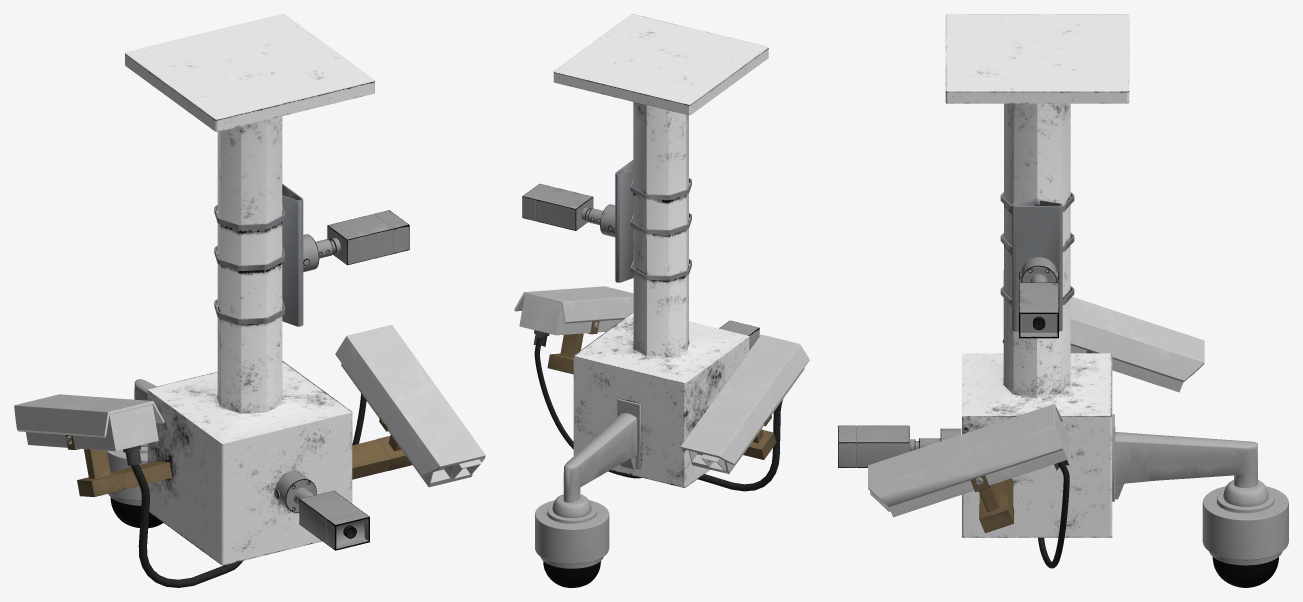
Rendered from cctv_camera.glb.
3 renders of one model, left to right at view 1: azimuth 30°, elevation 25°; view 2: azimuth 150°, elevation 25°; view 3: azimuth 270°, elevation 25°, orthographic. The views are drawn at different scales.
Visible parts, largest first — view 1: Object_6, Object_9, Object_36, Object_42, Object_15, Object_30, Object_48, Object_51; view 2: Object_6, Object_9, Object_48, Object_45, Object_36, Object_42, Object_15, Object_30, Object_51, Object_33; view 3: Object_6, Object_9, Object_45, Object_48, Object_36, Object_42, Object_15, Object_51, Object_33.
Part boxes in pixels (<box>): Object_6: <box>125,14,374,565</box>; Object_9: <box>14,325,485,487</box>; Object_36: <box>274,210,409,550</box>; Object_42: <box>214,183,303,326</box>; Object_15: <box>65,417,412,496</box>; Object_30: <box>131,464,242,587</box>; Object_48: <box>107,443,147,505</box>; Object_51: <box>110,497,163,528</box>; Object_6: <box>553,14,768,487</box>; Object_9: <box>514,286,809,473</box>; Object_48: <box>535,494,609,568</box>; Object_45: <box>563,399,640,502</box>; Object_36: <box>522,184,759,349</box>; Object_42: <box>615,160,691,282</box>; Object_15: <box>547,321,776,459</box>; Object_30: <box>698,400,782,491</box>; Object_51: <box>543,561,600,587</box>; Object_33: <box>534,337,641,478</box>; Object_6: <box>945,14,1129,537</box>; Object_9: <box>868,297,1204,517</box>; Object_45: <box>1112,414,1257,501</box>; Object_48: <box>1202,480,1288,565</box>; Object_36: <box>838,257,1058,467</box>; Object_42: <box>1000,192,1074,331</box>; Object_15: <box>970,350,1092,532</box>; Object_51: <box>1212,557,1278,587</box>; Object_33: <box>1038,461,1069,568</box>.
Size of the model in its own units: 177 by 284 by 219.
12 materials, 9 textured.
